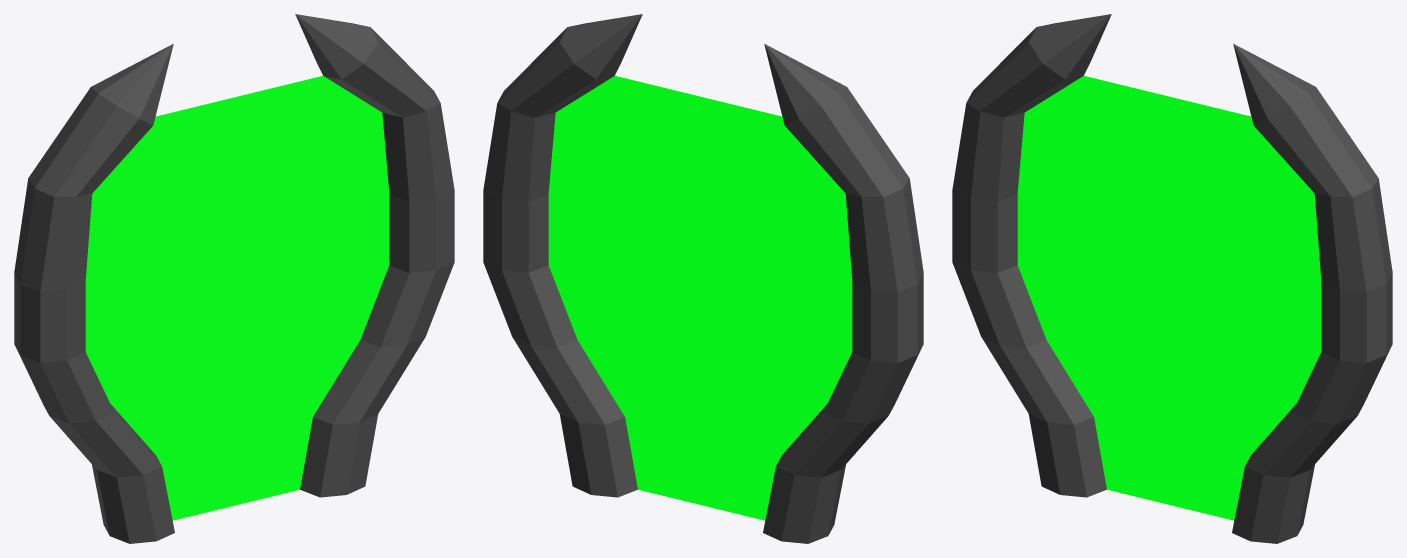
File: Dark Portal.glb
3 renders of one model, left to right at view 1: azimuth 30°, elevation 25°; view 2: azimuth 150°, elevation 25°; view 3: azimuth 330°, elevation 25°, orthographic.
Parts seen in each view (by area): view 1: Dark Portal; view 2: Dark Portal; view 3: Dark Portal.
Boxes of the visible parts, bbox=[...] form: Dark Portal: bbox=[14, 14, 454, 543]; Dark Portal: bbox=[483, 14, 923, 543]; Dark Portal: bbox=[952, 14, 1392, 543].
Size of the model in its own units: 1.8 by 1.92 by 0.2497.
